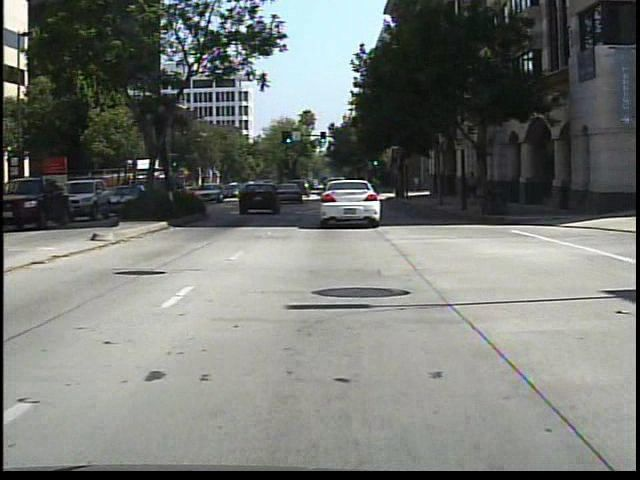person: (466, 165, 485, 208)
